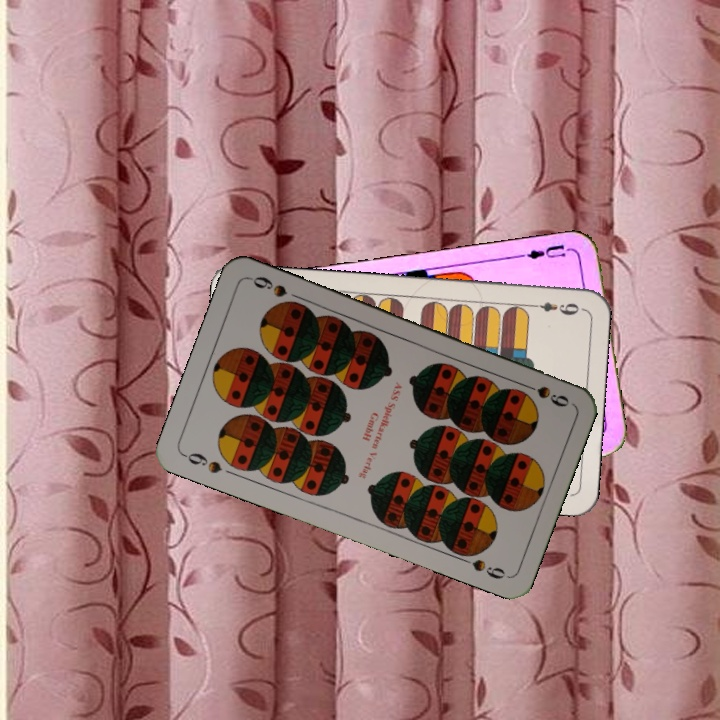E9: (525, 298, 581, 318)
EU: (516, 240, 575, 262)
S9: (516, 378, 572, 410), (179, 448, 224, 476)
